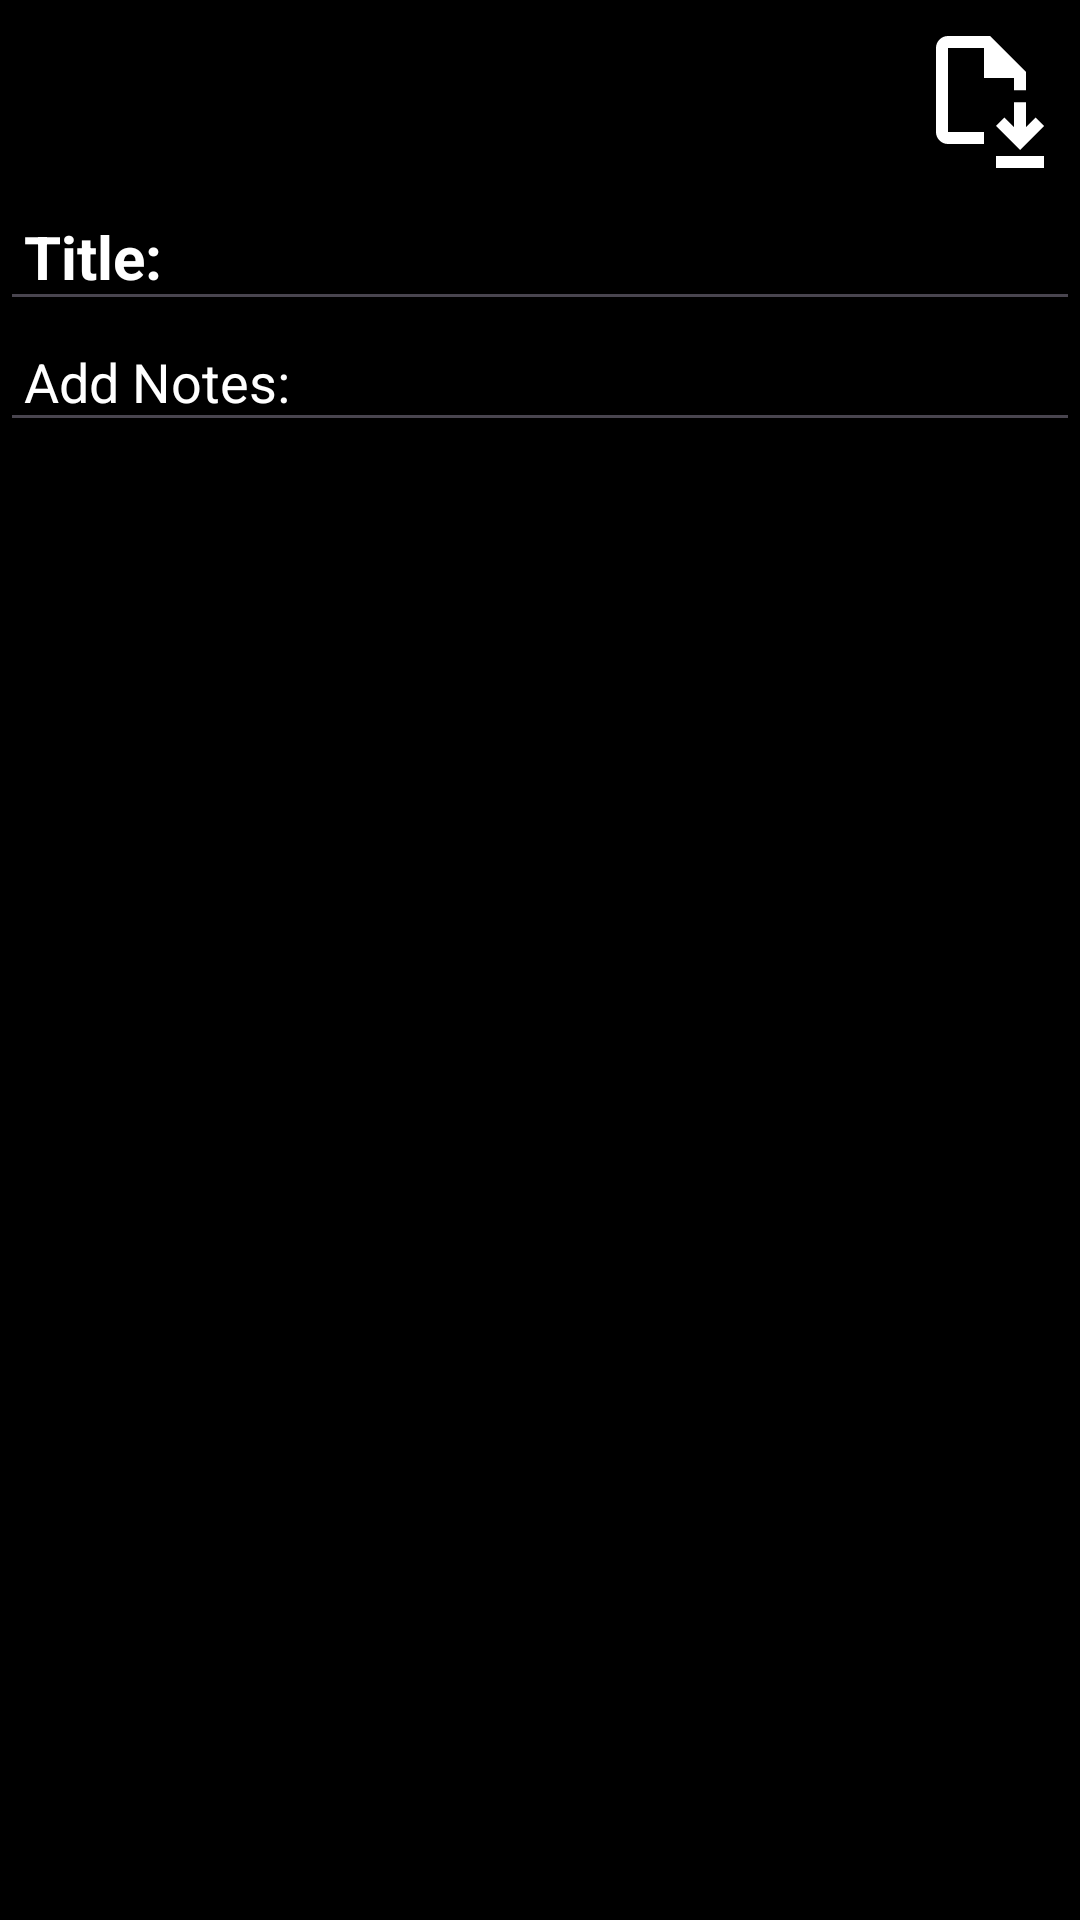

Where to tap for icons on this 1080×1920 app screen, as (x=x, y=y):
save: (x=990, y=102)
